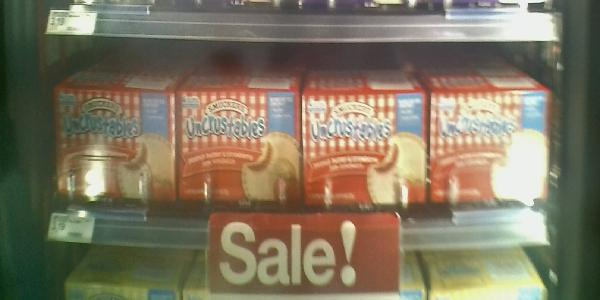icecream: (302, 86, 428, 217), (55, 85, 179, 216), (180, 85, 298, 216), (433, 86, 550, 213)
